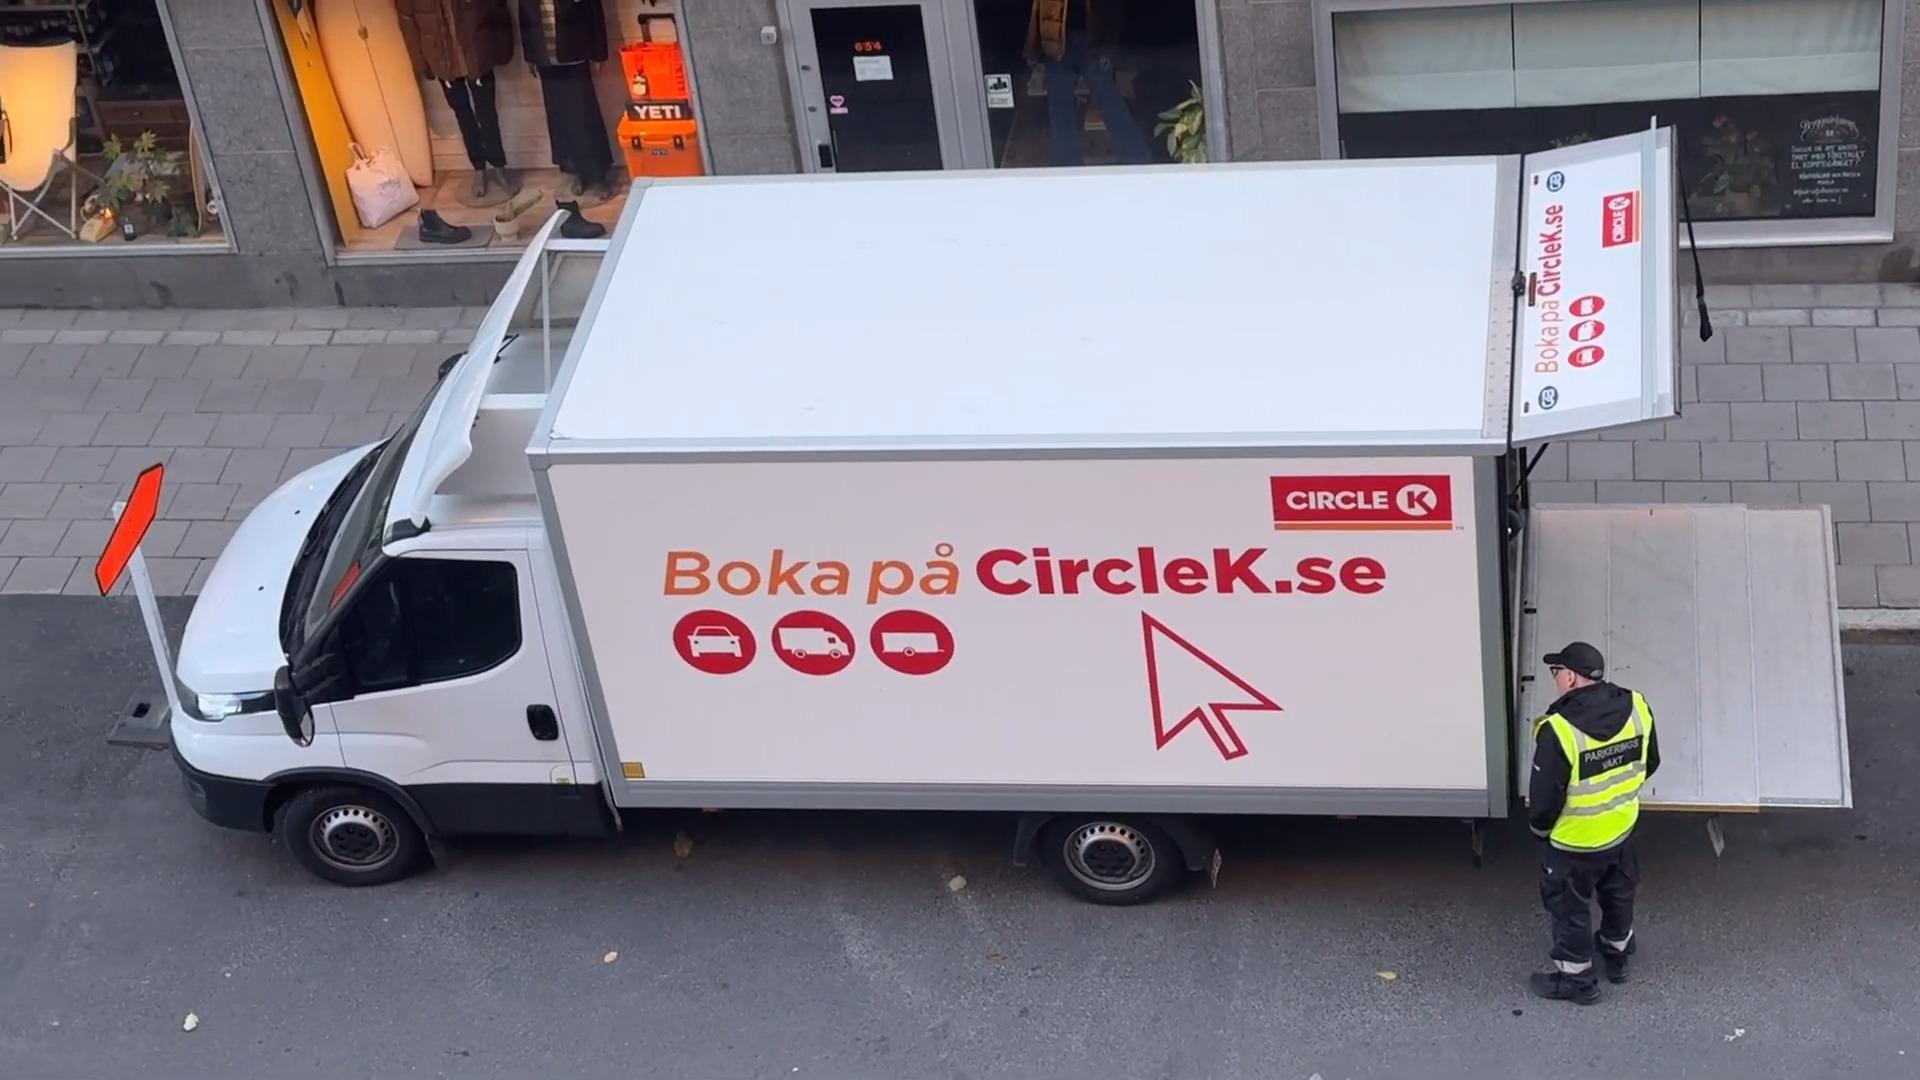parking-attendant: (1528, 641, 1658, 1004)
